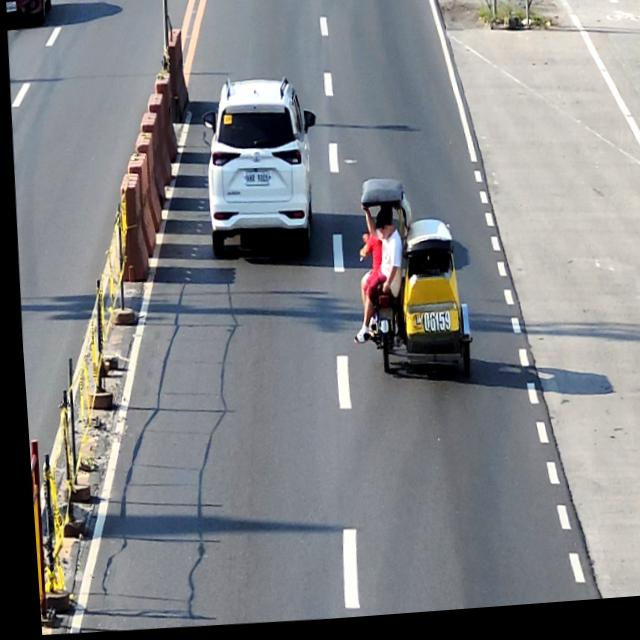Car: (195, 75, 323, 268)
License-Plate: (241, 174, 267, 191), (371, 312, 388, 327)
Tricycle: (350, 179, 472, 392)
